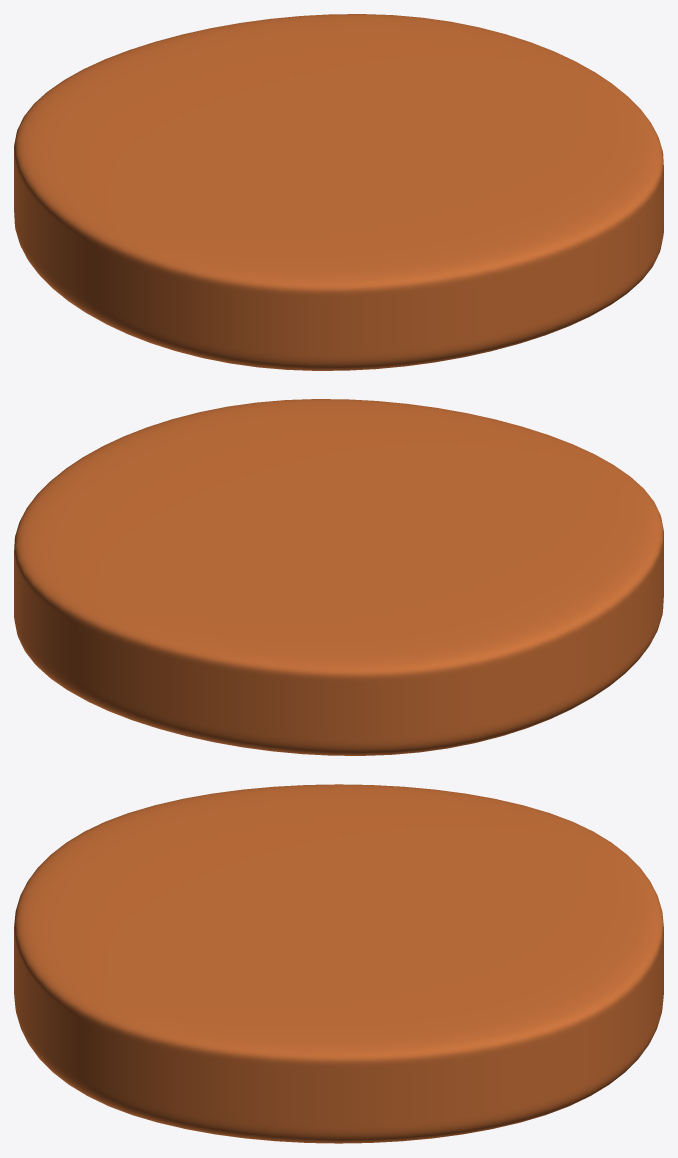
The model's file is bottomBunB.fbx.
3 renders of one model, top to bottom at view 1: azimuth 30°, elevation 25°; view 2: azimuth 150°, elevation 25°; view 3: azimuth 270°, elevation 25°, orthographic. The views are drawn at different scales.
Parts seen in each view (by area): view 1: Cube; view 2: Cube; view 3: Cube.
Boxes of the visible parts, x1,y1,x2,y2 form: Cube: (14, 14, 663, 370); Cube: (14, 399, 663, 755); Cube: (14, 784, 663, 1143).
Bounding box in the file's own units: 182 × 35.49 × 182.
